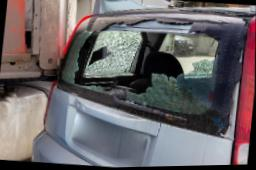Windshield: (57, 24, 232, 127)
